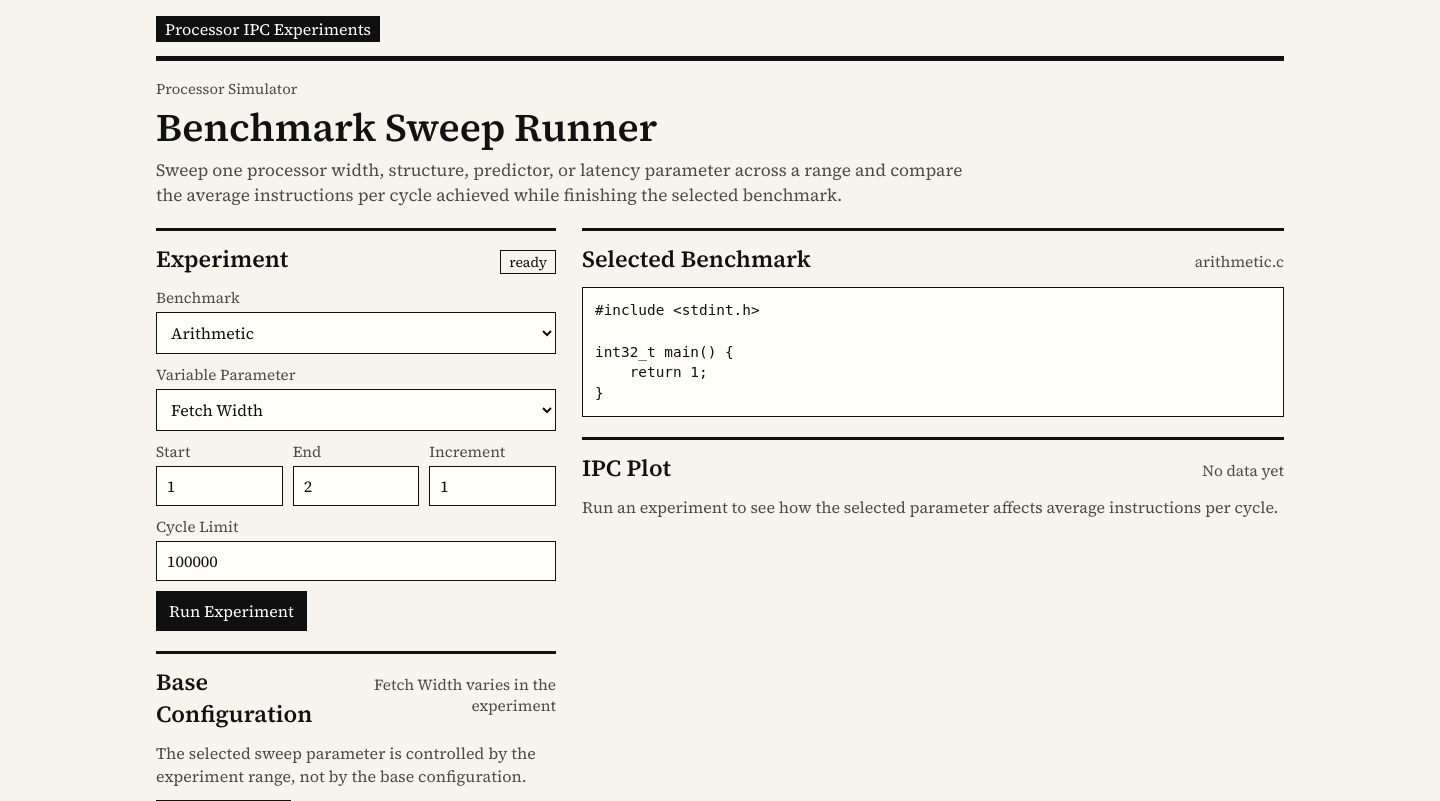
Test: App › loads the source for the newly selected benchmark
Select "Fibonacci" in the dropdown labelled "Benchmark": {"x": 356, "y": 333} [156,312,556,354]
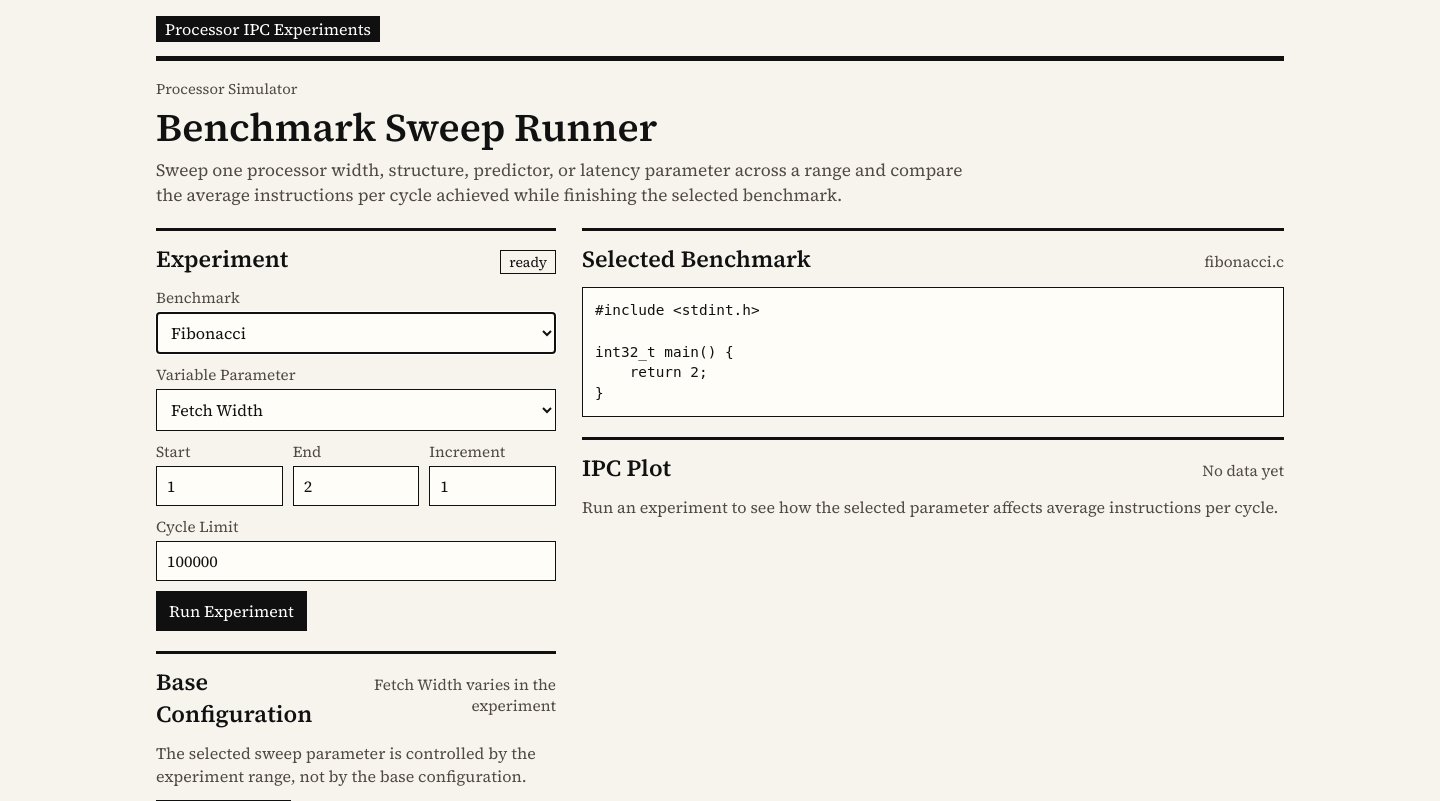
Expected: the element named "Selected benchmark source code" shows "return 2;", [595,302,760,401]
